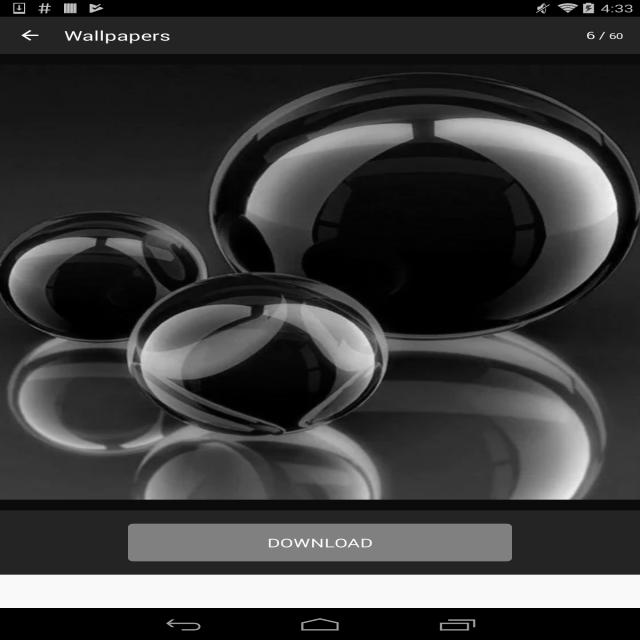Button: (128, 524, 512, 561)
ImageButton: (0, 17, 60, 54)
ImageView: (0, 64, 640, 500)
TextView: (64, 26, 171, 44), (586, 28, 609, 42), (609, 30, 623, 42)
